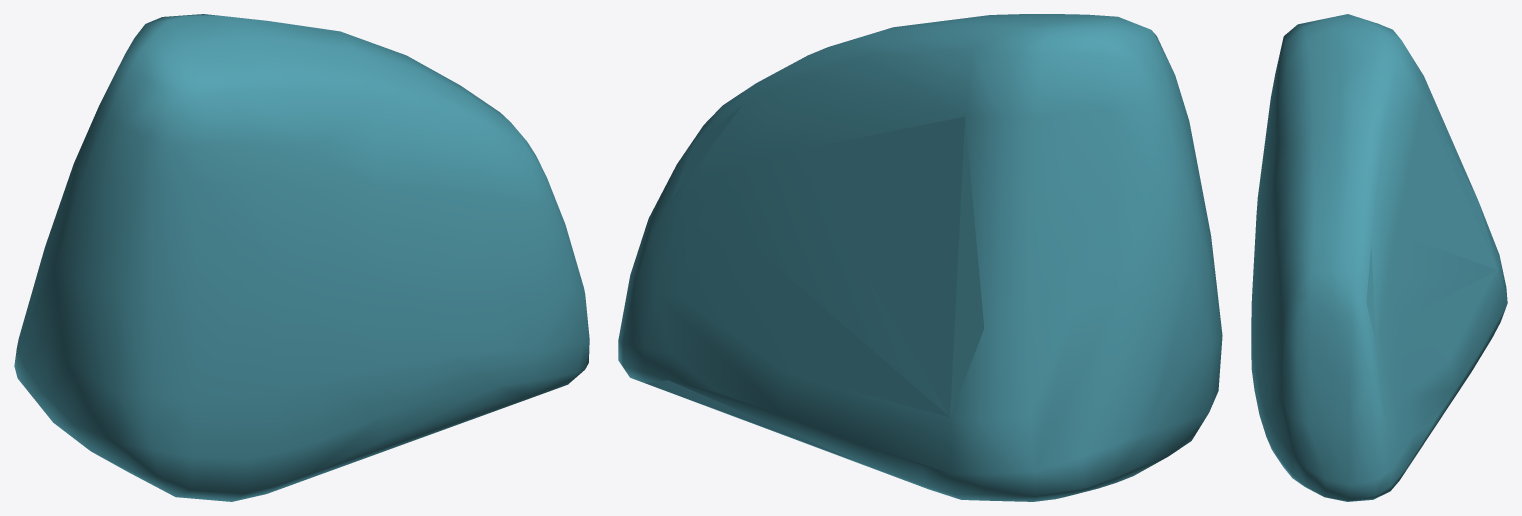
The model's file is COL_Alpha_Surface_convex_hull.dae.
3 renders of one model, left to right at view 1: azimuth 30°, elevation 25°; view 2: azimuth 150°, elevation 25°; view 3: azimuth 270°, elevation 25°, orthographic. The views are drawn at different scales.
Parts seen in each view (by area): view 1: COL_Alpha_Surface_convex_hull; view 2: COL_Alpha_Surface_convex_hull; view 3: COL_Alpha_Surface_convex_hull.
Boxes of the visible parts, x1=… form: COL_Alpha_Surface_convex_hull: x1=14, y1=14, x2=589, y2=501; COL_Alpha_Surface_convex_hull: x1=618, y1=14, x2=1222, y2=501; COL_Alpha_Surface_convex_hull: x1=1251, y1=14, x2=1507, y2=501.
Bounding box in the file's own units: 10.65 × 5.76 × 8.5.
